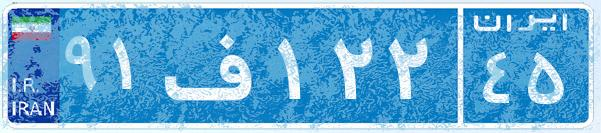1: (273, 28, 330, 110), (110, 28, 158, 105)
2: (385, 28, 445, 110), (330, 28, 385, 110)
4: (475, 38, 525, 113)
5: (525, 38, 570, 115)
9: (57, 26, 110, 107)
ف: (158, 15, 273, 115)
